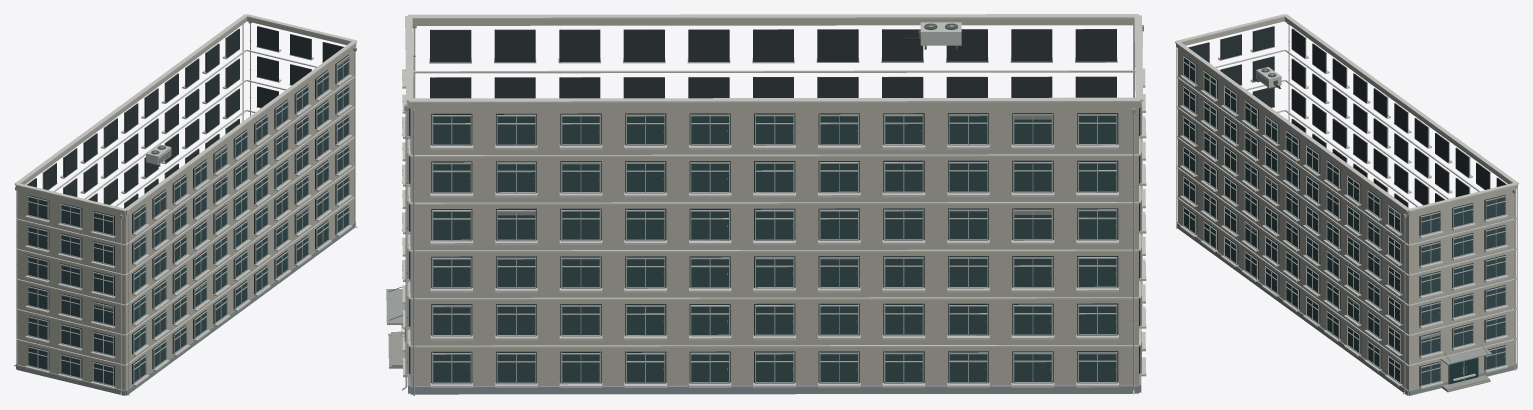
Rendered from osm_way_225265329.glb.
The picture shows the model from 3 angles, left to right: view 1: azimuth 30°, elevation 25°; view 2: azimuth 150°, elevation 25°; view 3: azimuth 270°, elevation 25°; orthographic projection. The views are drawn at different scales.
Parts seen in each view (by area): view 1: Windows and facade details | osm_way_225265329, Architecture | osm_way_225265329, Roof services | osm_way_225265329, EXTERIOR::osm_way_225265329::rainwater and roof service deta; view 2: Windows and facade details | osm_way_225265329, Architecture | osm_way_225265329, Roof services | osm_way_225265329, EXTERIOR::osm_way_225265329::rainwater and roof service deta, EXTERIOR::osm_way_225265329::inferred entry doors canopy and; view 3: Windows and facade details | osm_way_225265329, Architecture | osm_way_225265329, Roof services | osm_way_225265329, EXTERIOR::osm_way_225265329::rainwater and roof service deta, EXTERIOR::osm_way_225265329::inferred entry doors canopy and.
Boxes of the visible parts, x1,y1,x2,y2 form: Windows and facade details | osm_way_225265329: [25, 24, 352, 395]; Architecture | osm_way_225265329: [15, 17, 356, 395]; Roof services | osm_way_225265329: [14, 14, 357, 211]; EXTERIOR::osm_way_225265329::rainwater and roof service deta: [14, 22, 357, 395]; Windows and facade details | osm_way_225265329: [402, 25, 1146, 395]; Architecture | osm_way_225265329: [407, 18, 1141, 394]; Roof services | osm_way_225265329: [405, 14, 1143, 102]; EXTERIOR::osm_way_225265329::rainwater and roof service deta: [402, 22, 1146, 394]; EXTERIOR::osm_way_225265329::inferred entry doors canopy and: [386, 287, 405, 368]; Windows and facade details | osm_way_225265329: [1176, 26, 1517, 389]; Architecture | osm_way_225265329: [1176, 17, 1517, 395]; Roof services | osm_way_225265329: [1175, 14, 1518, 211]; EXTERIOR::osm_way_225265329::rainwater and roof service deta: [1256, 23, 1516, 394]; EXTERIOR::osm_way_225265329::inferred entry doors canopy and: [1440, 344, 1491, 392].
Bounding box in the file's own units: 44.95 × 20.58 × 33.16.
